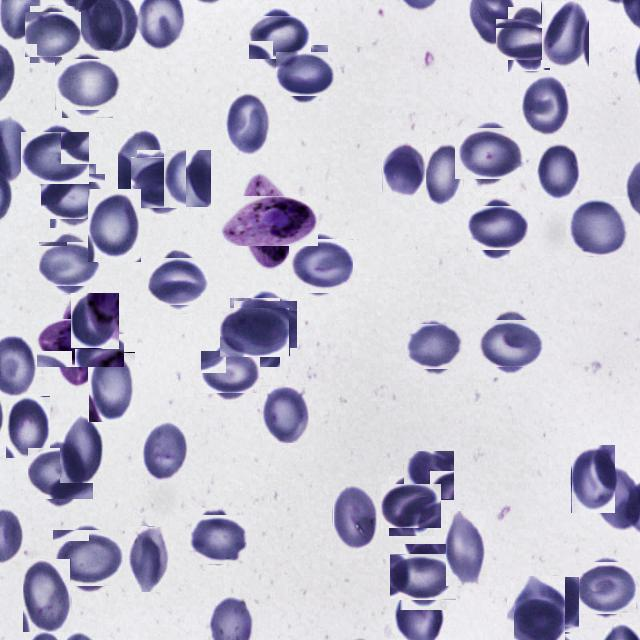red blood cell: (56, 526, 120, 590), (88, 189, 141, 262), (460, 122, 520, 184), (26, 128, 86, 188), (567, 197, 627, 257), (292, 236, 351, 296), (24, 559, 72, 632), (58, 55, 117, 114), (226, 302, 284, 362), (519, 70, 571, 136), (483, 314, 541, 372), (32, 444, 90, 502), (134, 154, 192, 212), (510, 579, 568, 637), (88, 352, 135, 422), (541, 0, 589, 68), (396, 548, 452, 606), (333, 482, 379, 552), (152, 253, 208, 310), (577, 560, 634, 616), (60, 414, 106, 483), (188, 512, 244, 568), (238, 296, 294, 352), (593, 465, 640, 530), (571, 444, 615, 513), (46, 168, 100, 224), (446, 511, 486, 586), (141, 422, 190, 483), (118, 129, 162, 196), (502, 12, 556, 66), (126, 526, 170, 592), (226, 91, 271, 155), (260, 386, 309, 444), (253, 11, 306, 64), (5, 396, 50, 458), (163, 150, 211, 208), (472, 202, 524, 255), (406, 320, 459, 372), (386, 480, 438, 532), (44, 238, 96, 290), (71, 294, 119, 349), (532, 576, 579, 632), (280, 49, 331, 100), (205, 346, 256, 397), (27, 9, 78, 60), (382, 140, 426, 198), (538, 143, 582, 200), (404, 450, 454, 500), (424, 144, 464, 205)
schizont: (232, 184, 307, 258), (46, 309, 114, 377)
